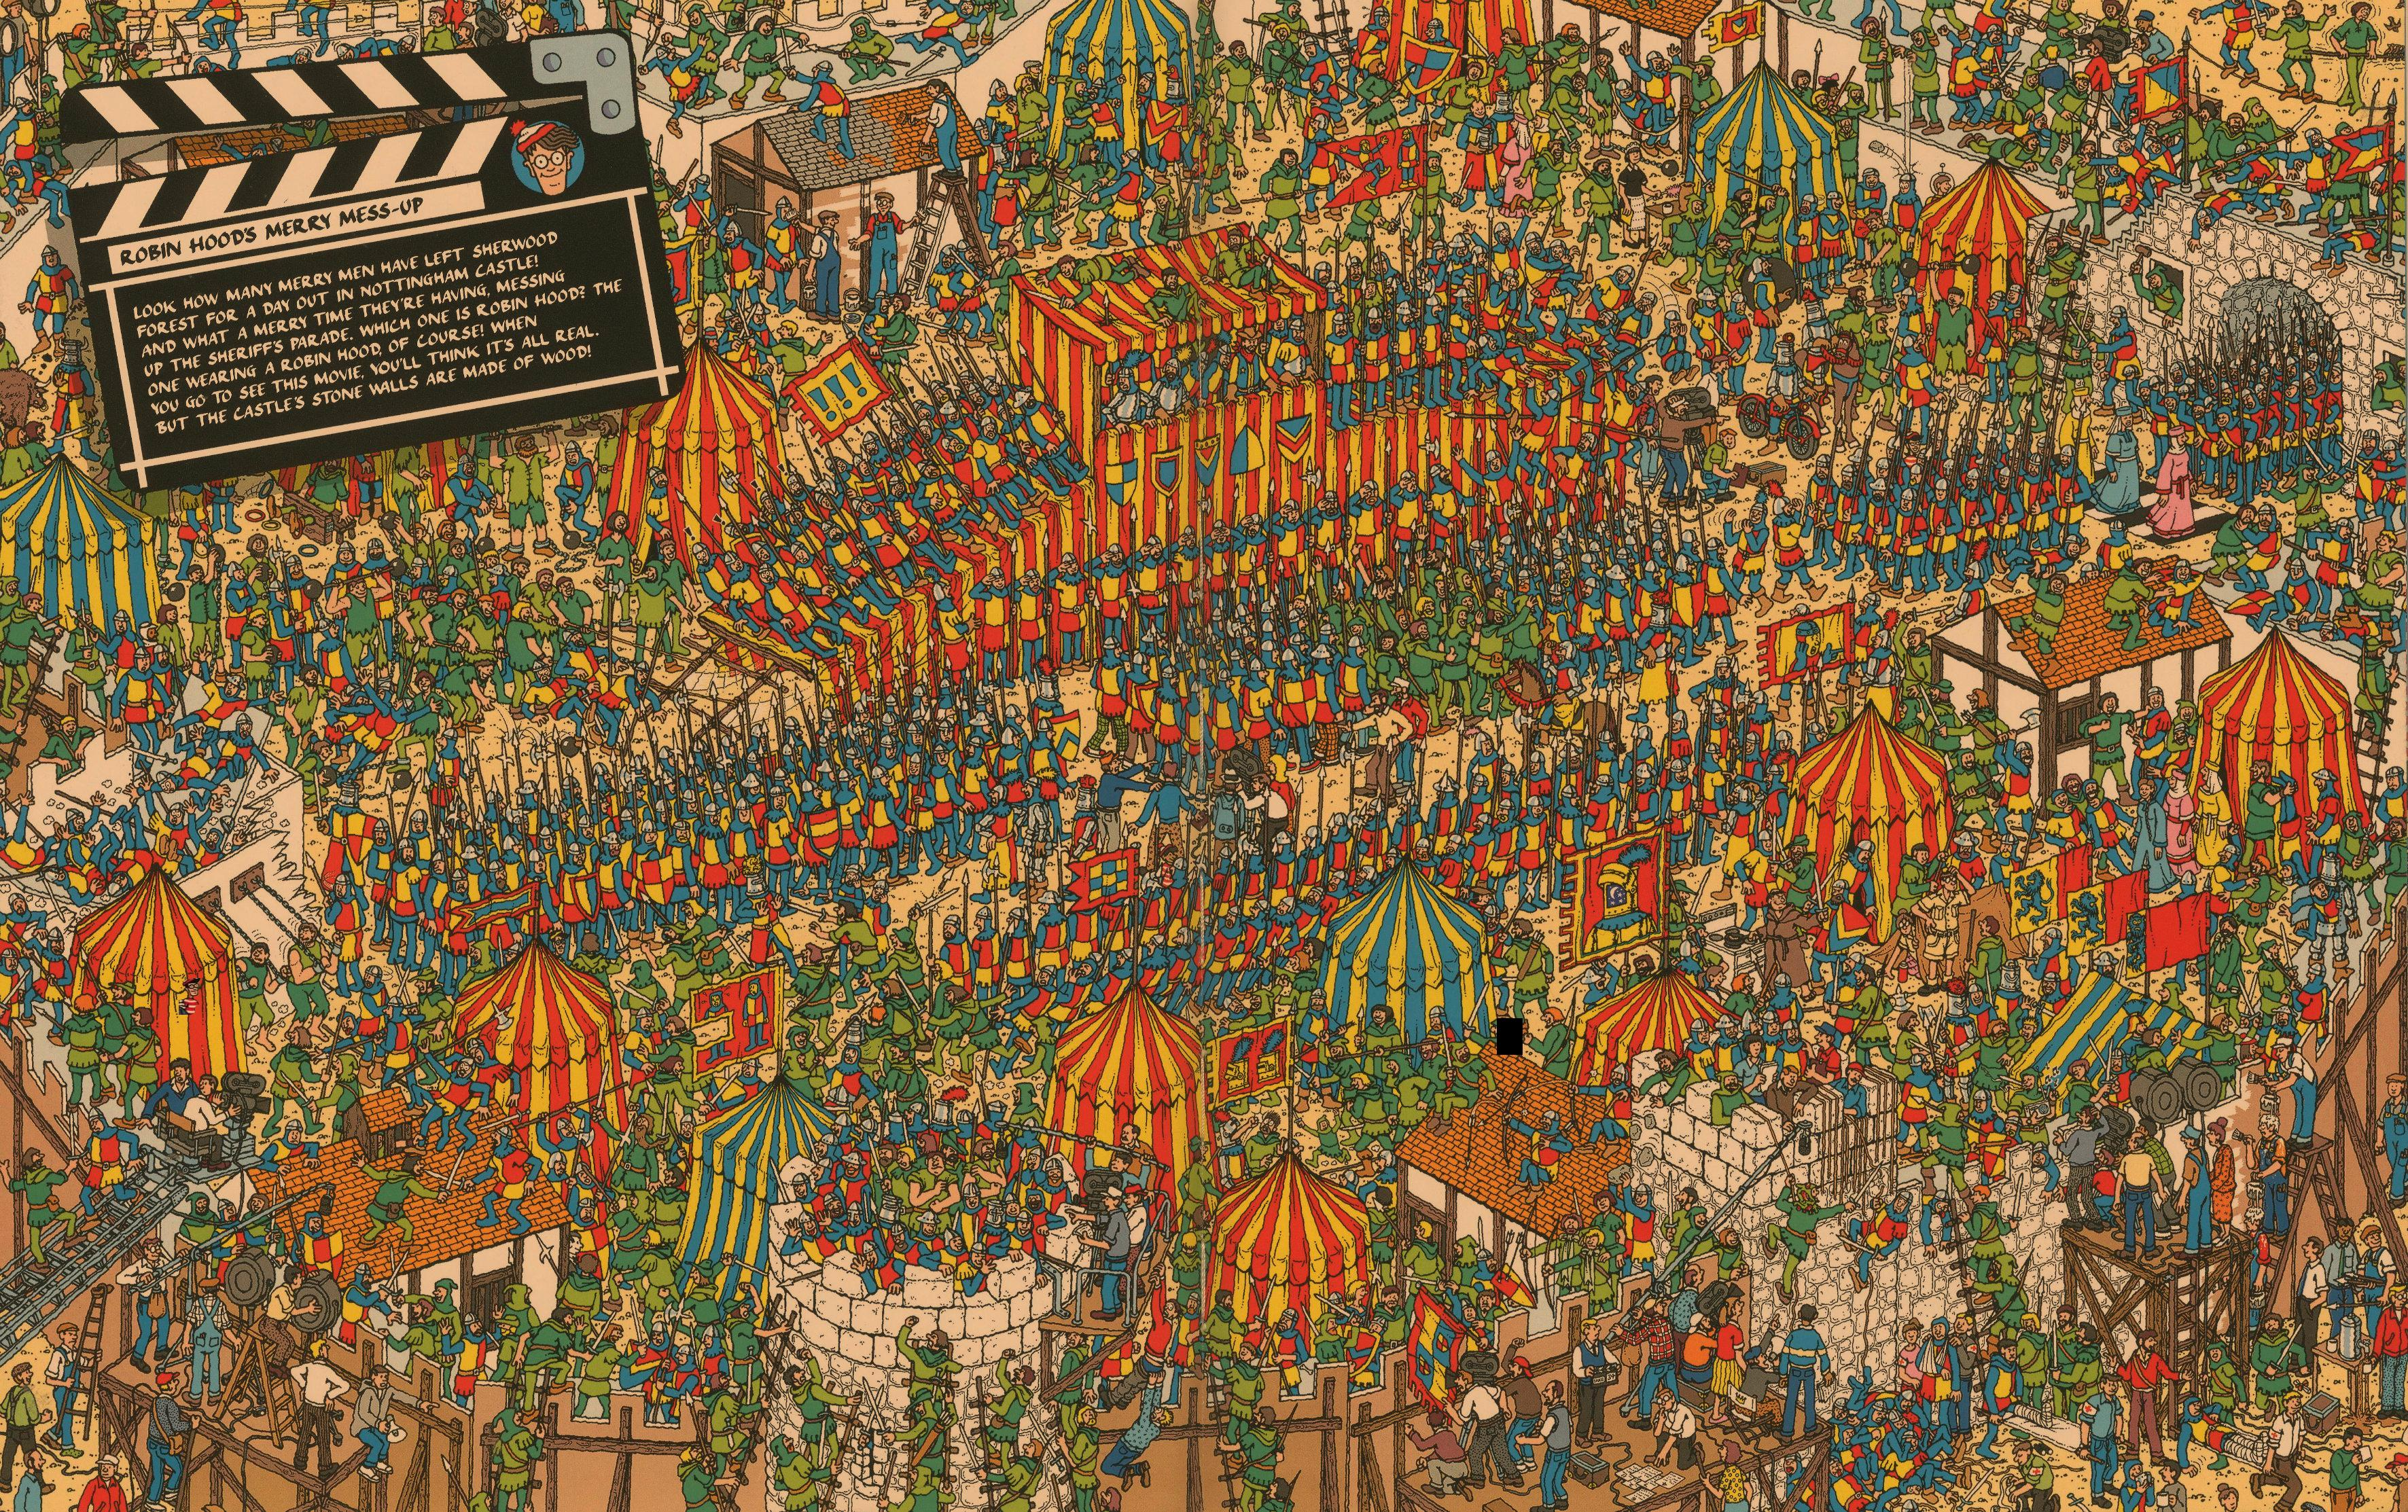waldos: (179, 979, 204, 1016)
